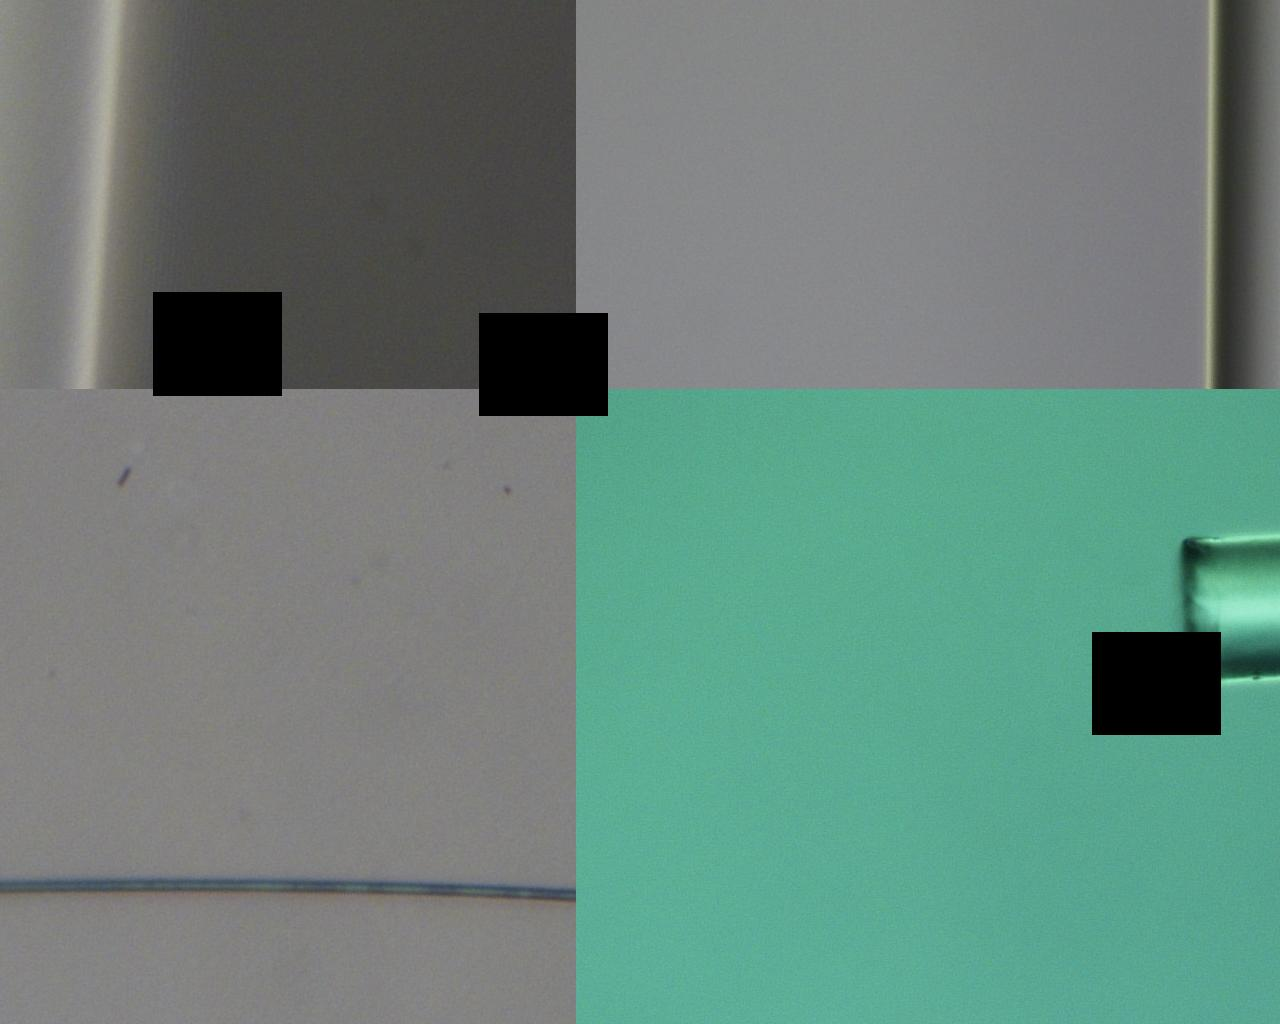fiber: (307, 310, 1280, 1000)
